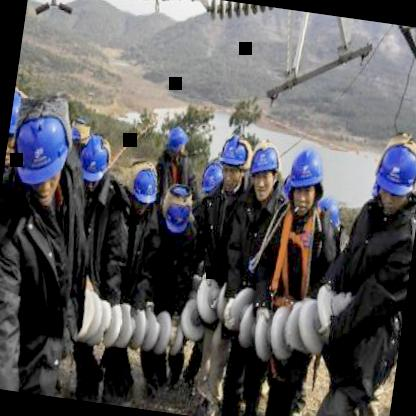helmet: (9, 104, 74, 196), (280, 142, 330, 223), (368, 134, 416, 215), (217, 129, 252, 196), (245, 142, 284, 202), (156, 183, 194, 242), (3, 86, 26, 172), (76, 134, 112, 188), (198, 162, 224, 210), (130, 164, 160, 205), (164, 124, 190, 171)
